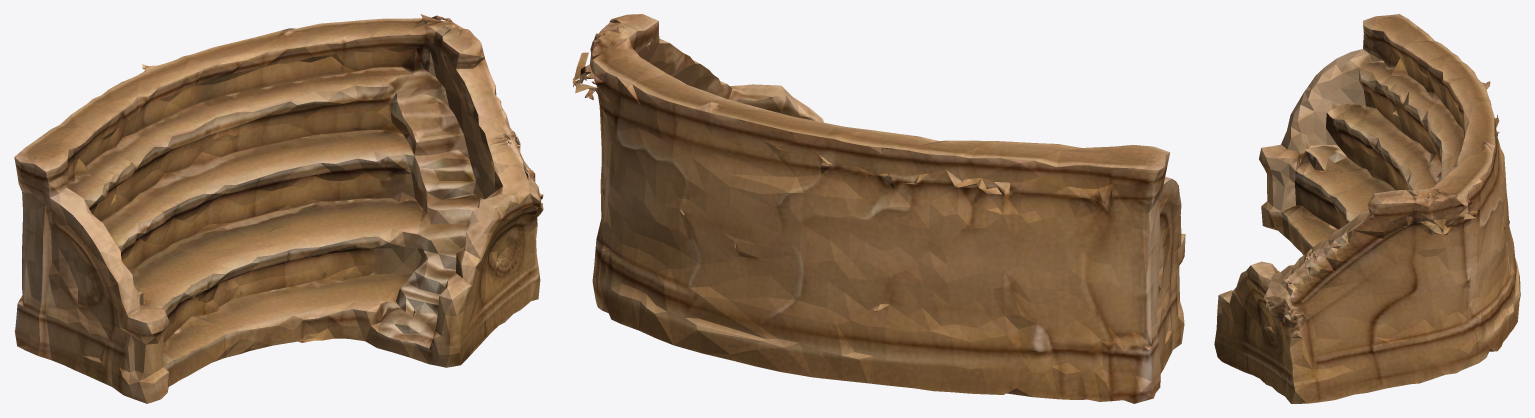
File: colosseum_seats_1117.glb
The picture shows the model from 3 angles, left to right: view 1: azimuth 30°, elevation 25°; view 2: azimuth 150°, elevation 25°; view 3: azimuth 270°, elevation 25°; orthographic projection. The views are drawn at different scales.
Parts seen in each view (by area): view 1: world; view 2: world; view 3: world.
Boxes of the visible parts, x1=… form: world: x1=14, y1=14, x2=543, y2=403; world: x1=572, y1=14, x2=1185, y2=403; world: x1=1214, y1=14, x2=1520, y2=403.
Bounding box in the file's own units: 2.06 × 1 × 1.31.
1 material, 1 textured.
